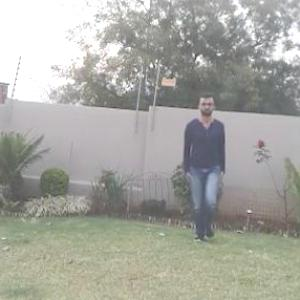follow: (176, 92, 227, 241)
